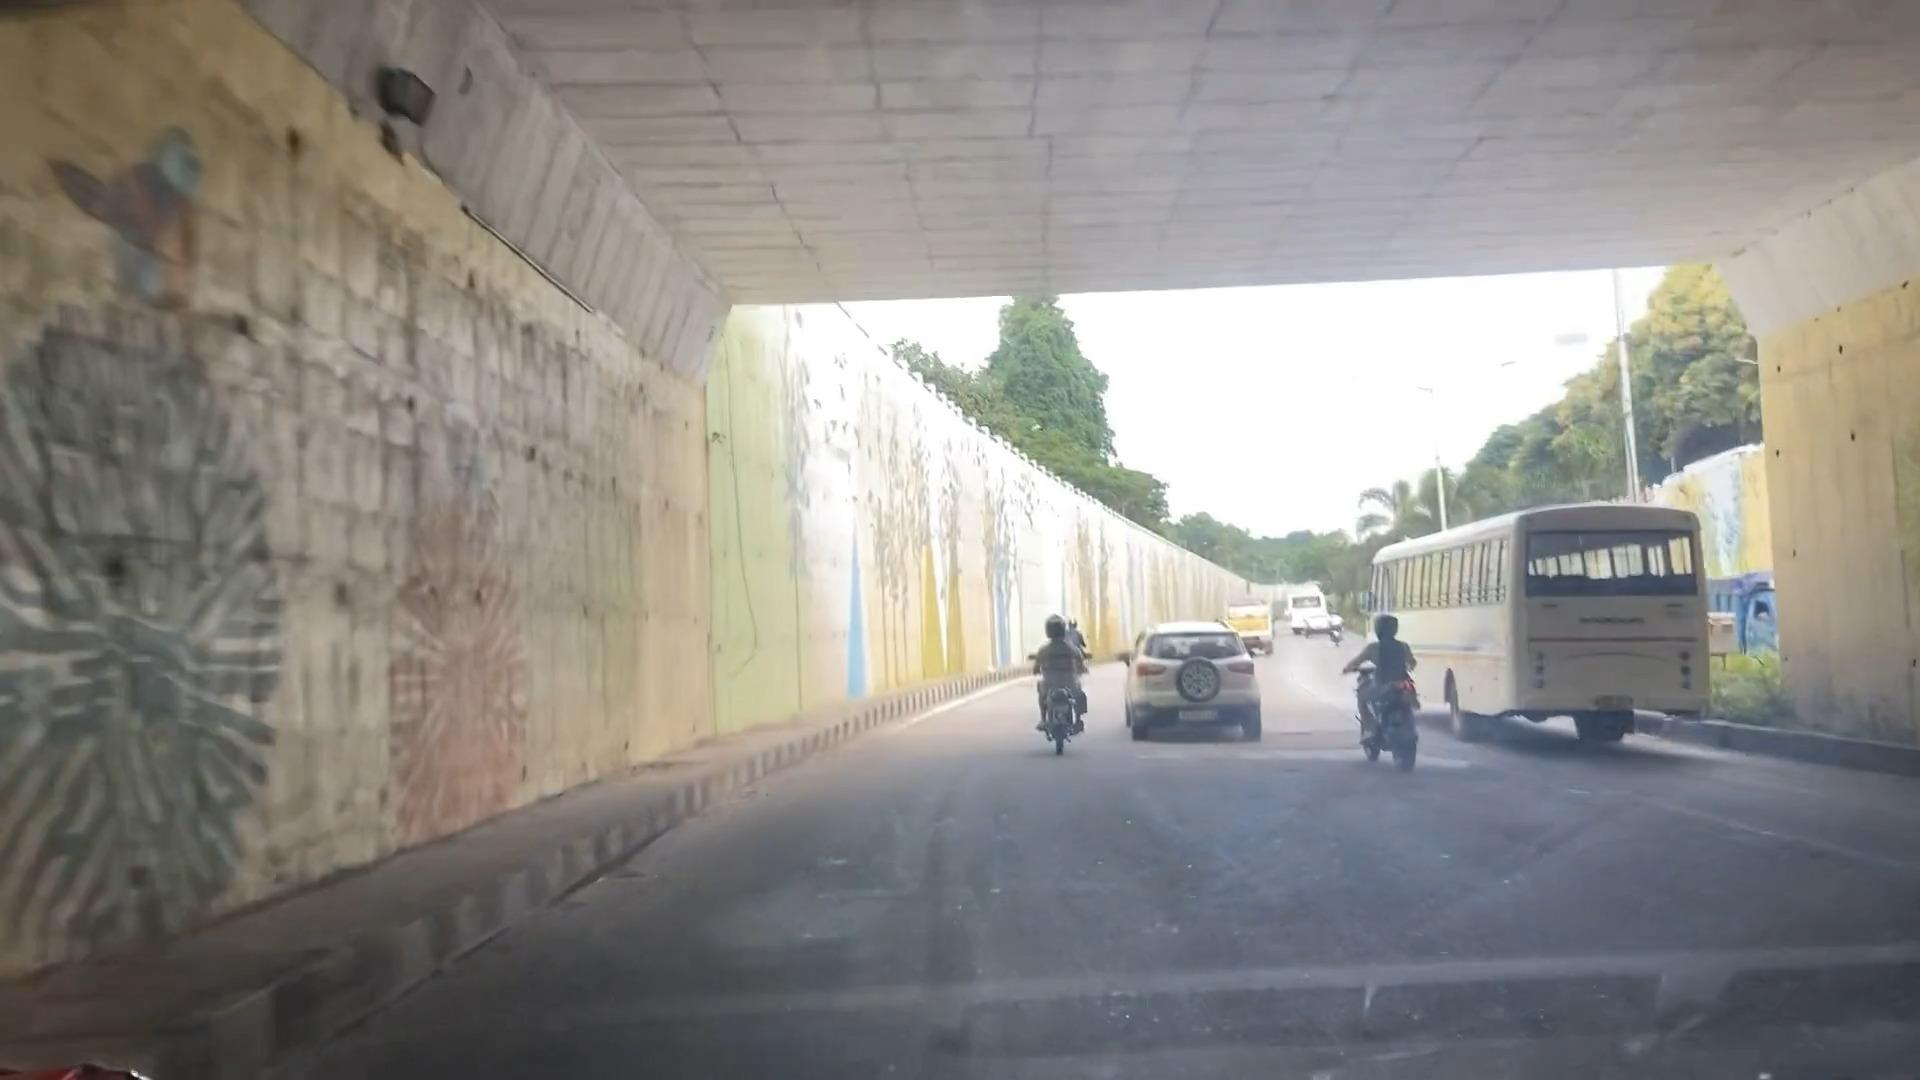HMV: (1378, 515, 1704, 723)
LMV: (1126, 622, 1260, 737), (1356, 604, 1426, 758), (1034, 622, 1096, 749)
